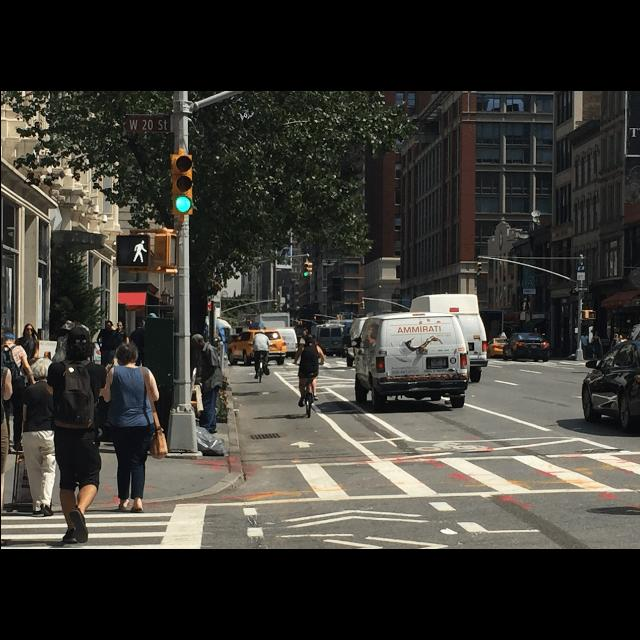head: (66, 326, 92, 360), (116, 344, 136, 366), (36, 359, 52, 379), (190, 334, 204, 350), (22, 324, 34, 338), (5, 334, 15, 344), (104, 321, 112, 332), (304, 336, 314, 344), (135, 320, 143, 328), (117, 322, 123, 330), (260, 330, 264, 336), (595, 332, 599, 336), (614, 335, 618, 339), (584, 332, 586, 336)
person: (45, 327, 111, 548), (100, 342, 168, 514), (18, 357, 60, 518), (0, 333, 38, 457), (185, 334, 223, 441), (13, 324, 41, 430), (292, 336, 324, 408), (94, 320, 118, 382), (130, 318, 152, 382), (250, 328, 272, 379), (110, 321, 130, 377), (590, 331, 602, 361), (580, 331, 590, 361), (611, 334, 621, 358)
